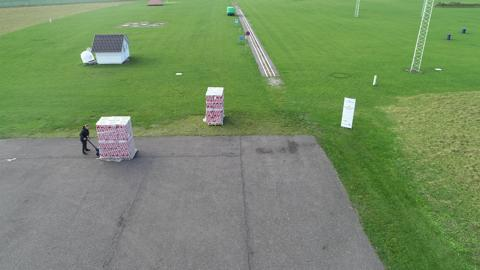RockwoolPallet: (97, 116, 137, 163)
